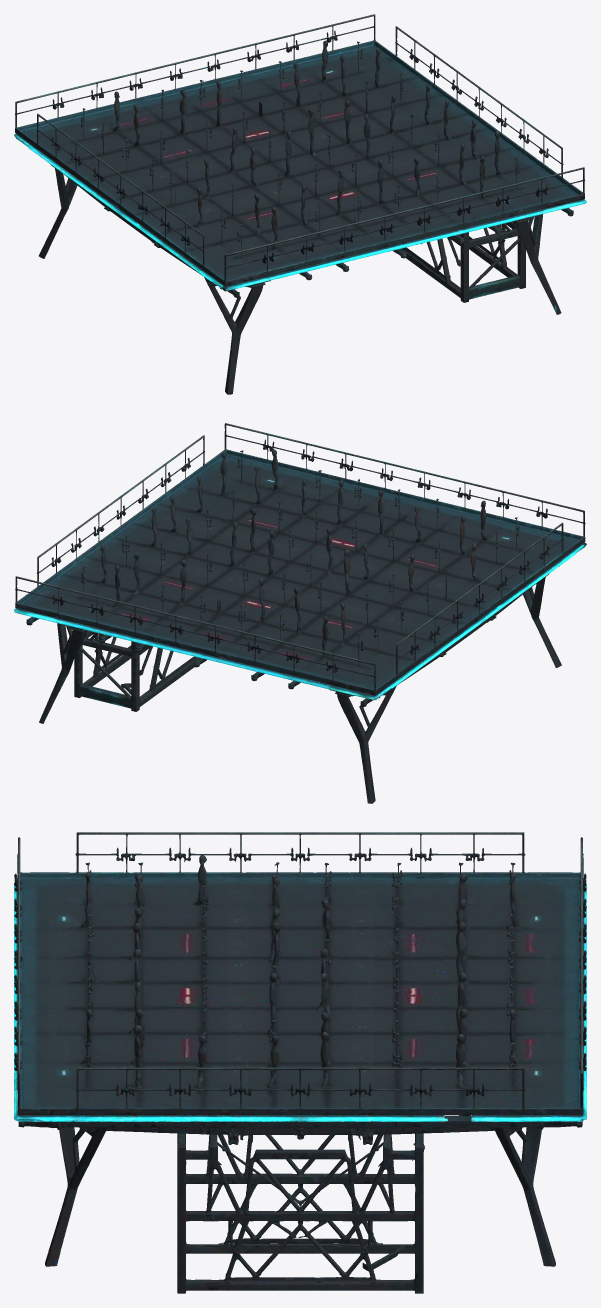
File: b2_sky_bridge_rt.glb
3 views of the same model, one above another, from view 1: azimuth 30°, elevation 25°; view 2: azimuth 150°, elevation 25°; view 3: azimuth 270°, elevation 25° (orthographic). The views are drawn at different scales.
Size of the model in its own units: 1.88 by 0.8769 by 1.9.
Materials: 1 (1 with a texture image).
